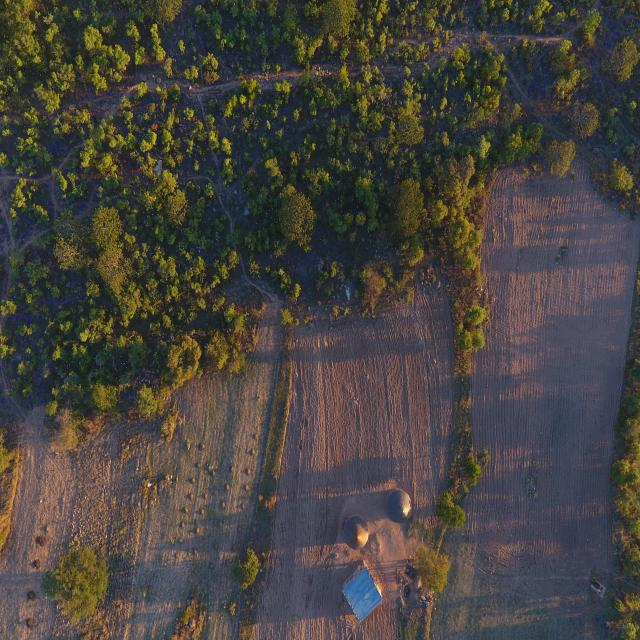boundaries: (391, 285, 493, 627), (229, 362, 297, 622)
